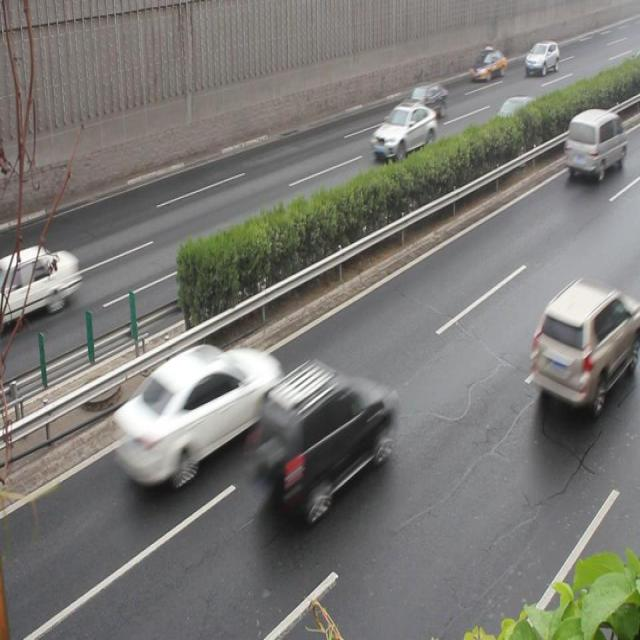car: (110, 340, 272, 487), (252, 363, 386, 512), (524, 276, 640, 408), (0, 243, 79, 326), (369, 101, 434, 159), (486, 96, 540, 147), (398, 83, 446, 122), (467, 45, 502, 82)
